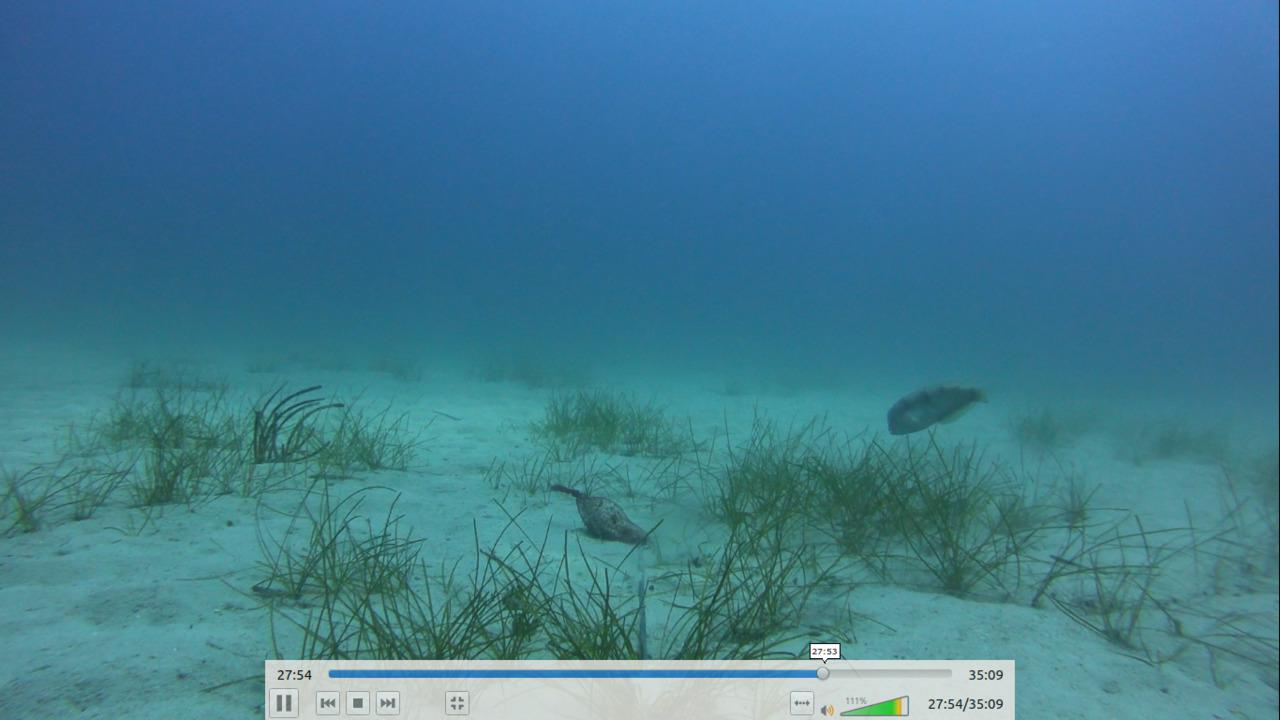raor: (884, 382, 993, 438)
